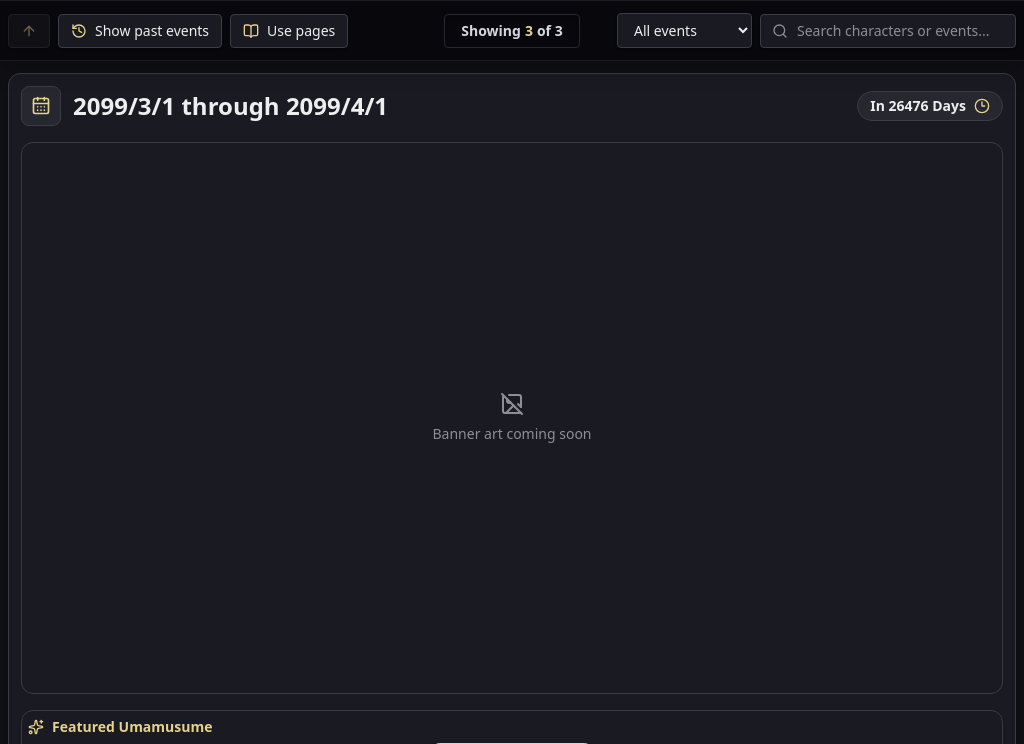
Scenario: Timeline category filter › keeps the search box working inside a marker filter
Select "Campaigns" in the dropdown named "filter events" at (684, 30), box top-left (617, 13), bottom-right (752, 48)
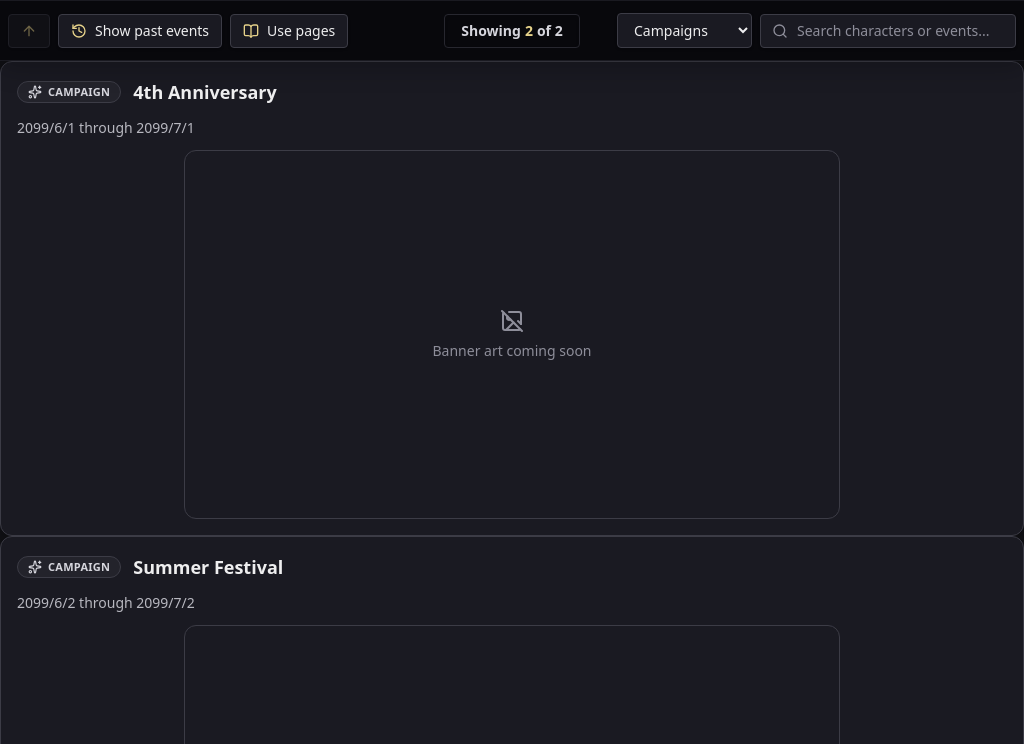
Type "summer" into the field with placeholder "Search characters or events..." at (888, 30), box top-left (760, 14), bottom-right (1016, 48)
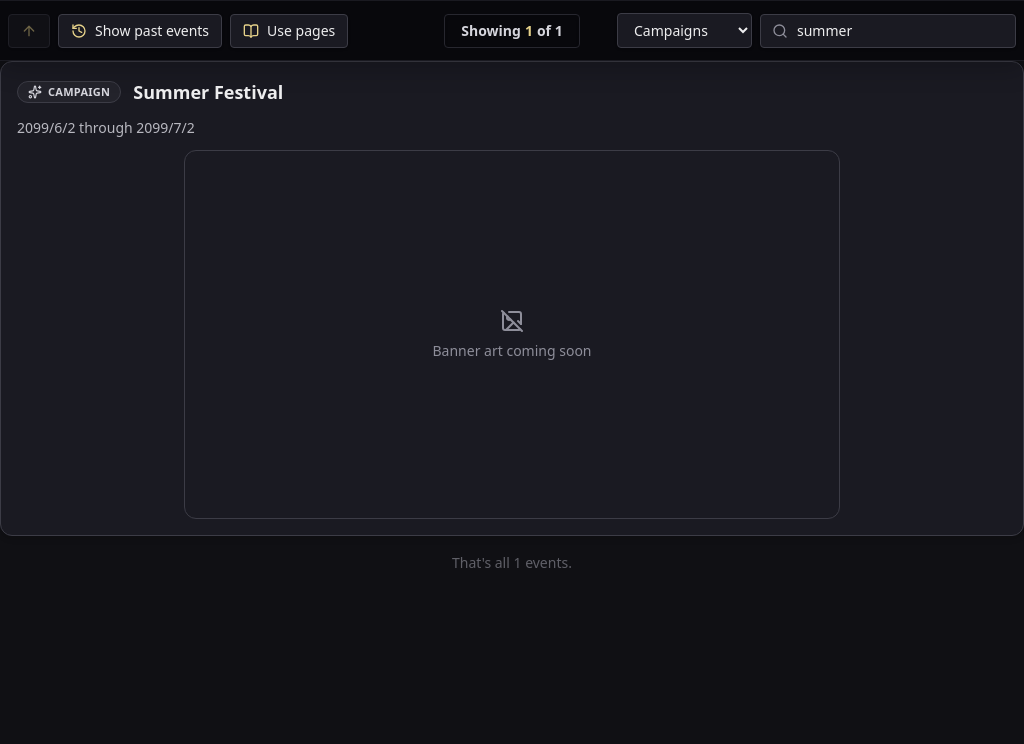
Expected: the heading "Summer Festival" is shown, top-left (133, 78), bottom-right (283, 106)
Expected: the heading "4th Anniversary" is gone
